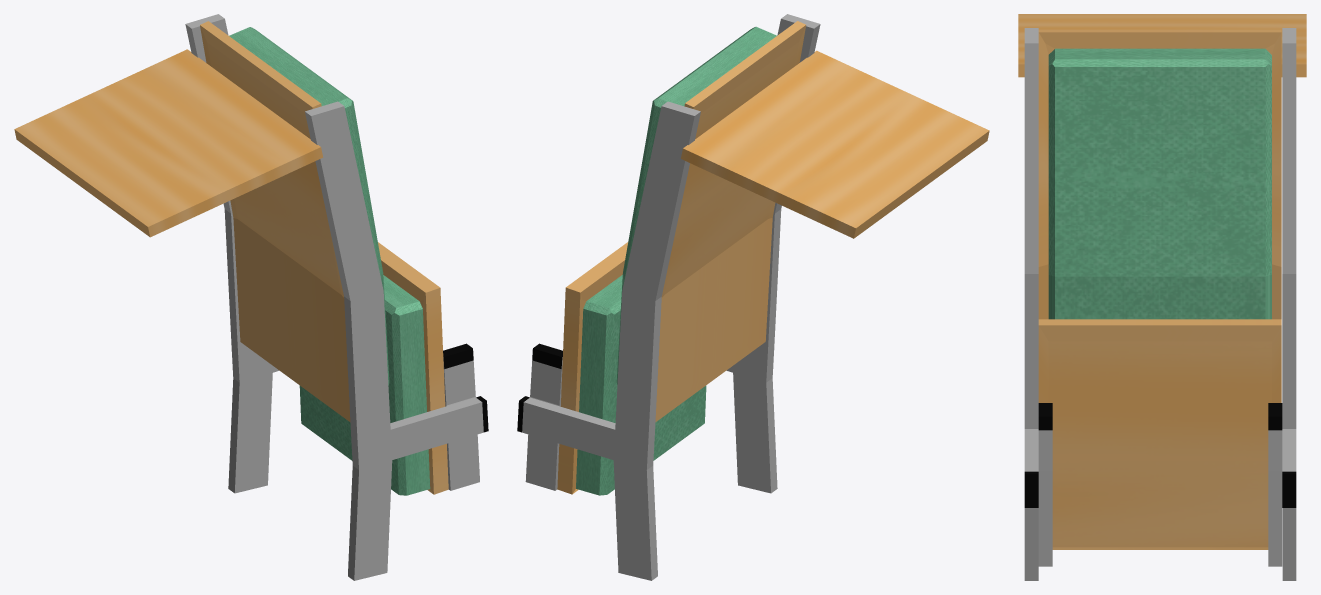
The model's file is aud_krzeslo.fbx.
3 views of the same model, side by side, from view 1: azimuth 30°, elevation 25°; view 2: azimuth 150°, elevation 25°; view 3: azimuth 270°, elevation 25° (orthographic). The views are drawn at different scales.
Visible parts, largest first — view 1: aud_krzeslo; view 2: aud_krzeslo; view 3: aud_krzeslo.
Part boxes in pixels (x1=…): aud_krzeslo: x1=14, y1=14, x2=488, y2=580; aud_krzeslo: x1=517, y1=14, x2=989, y2=580; aud_krzeslo: x1=1018, y1=14, x2=1306, y2=580.
Bounding box in the file's own units: 294 × 391 × 198.
1 material, 1 textured.
